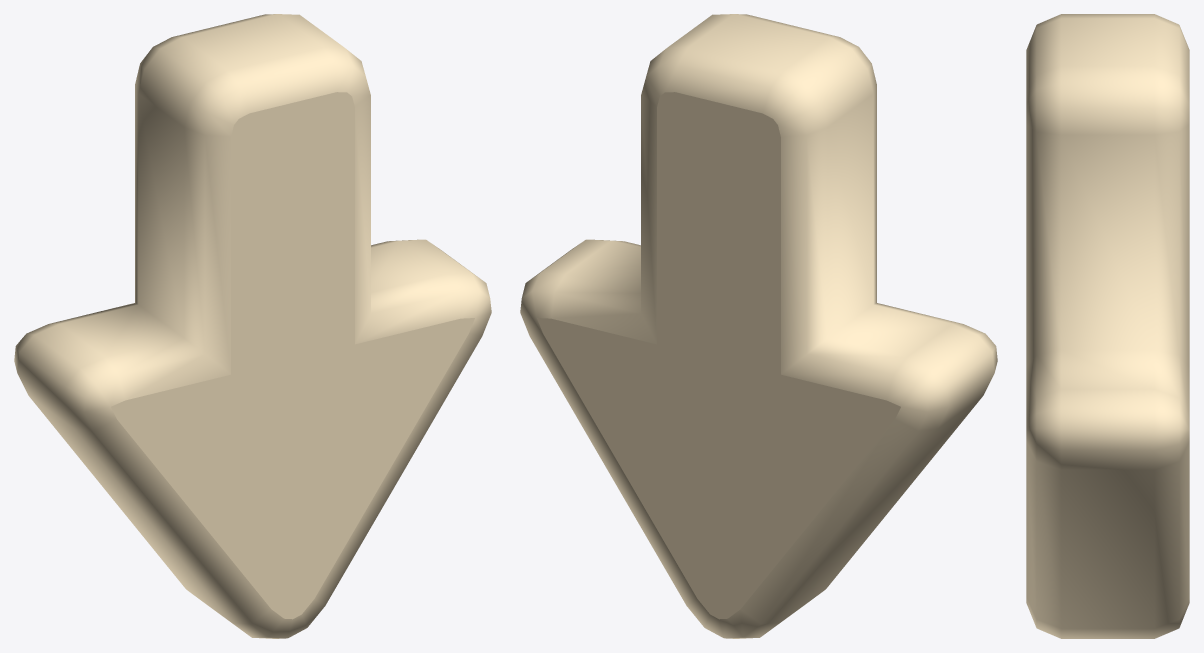
File: Arrow.fbx
The picture shows the model from 3 angles, left to right: view 1: azimuth 30°, elevation 25°; view 2: azimuth 150°, elevation 25°; view 3: azimuth 270°, elevation 25°; orthographic projection. The views are drawn at different scales.
Parts seen in each view (by area): view 1: Arrow; view 2: Arrow; view 3: Arrow.
Part boxes in pixels (x1,y1,x2,y2): Arrow: (14,14,491,638); Arrow: (520,14,997,638); Arrow: (1026,14,1189,638).
Size of the model in its own units: 0.8895 by 1.16 by 0.2897.
